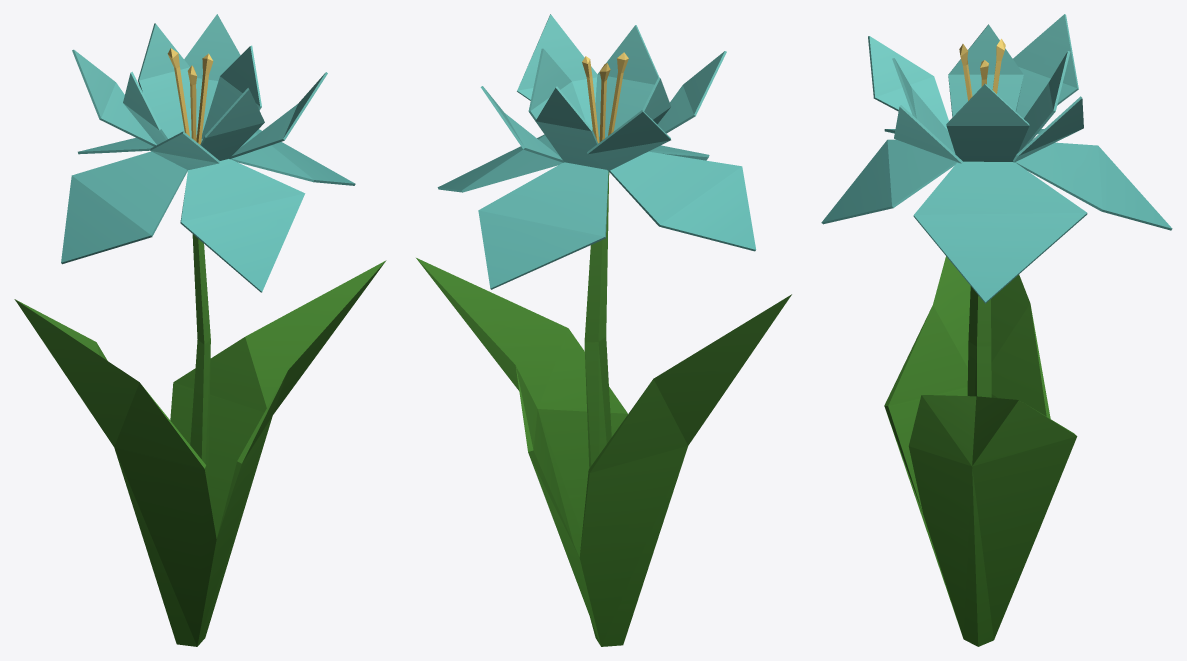
The model's file is plant_flower_lotus.fbx.
The picture shows the model from 3 angles, left to right: view 1: azimuth 30°, elevation 25°; view 2: azimuth 150°, elevation 25°; view 3: azimuth 270°, elevation 25°; orthographic projection.
Visible parts, largest first — view 1: plant_flower_lotus; view 2: plant_flower_lotus; view 3: plant_flower_lotus.
Part boxes in pixels (x1,y1,x2,y2): plant_flower_lotus: (14, 14, 386, 646); plant_flower_lotus: (416, 14, 791, 646); plant_flower_lotus: (821, 14, 1172, 646).
Size of the model in its own units: 0.5 by 0.75 by 0.4.
1 material, 1 textured.
